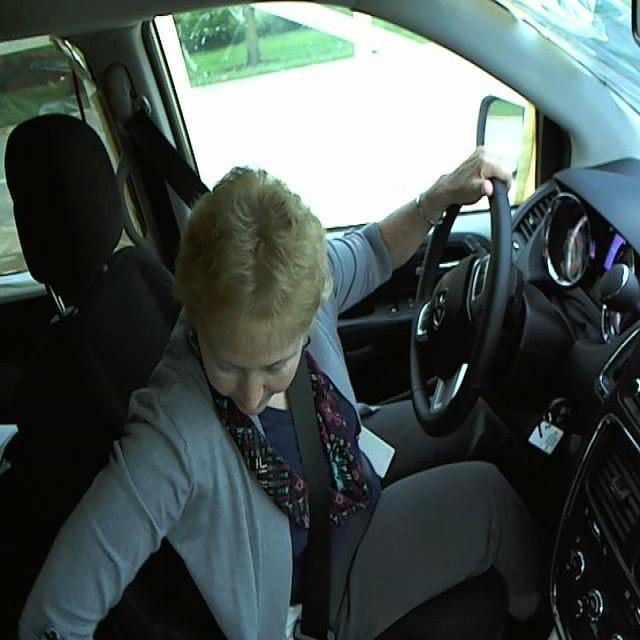seatbelt: (286, 392, 340, 639)
